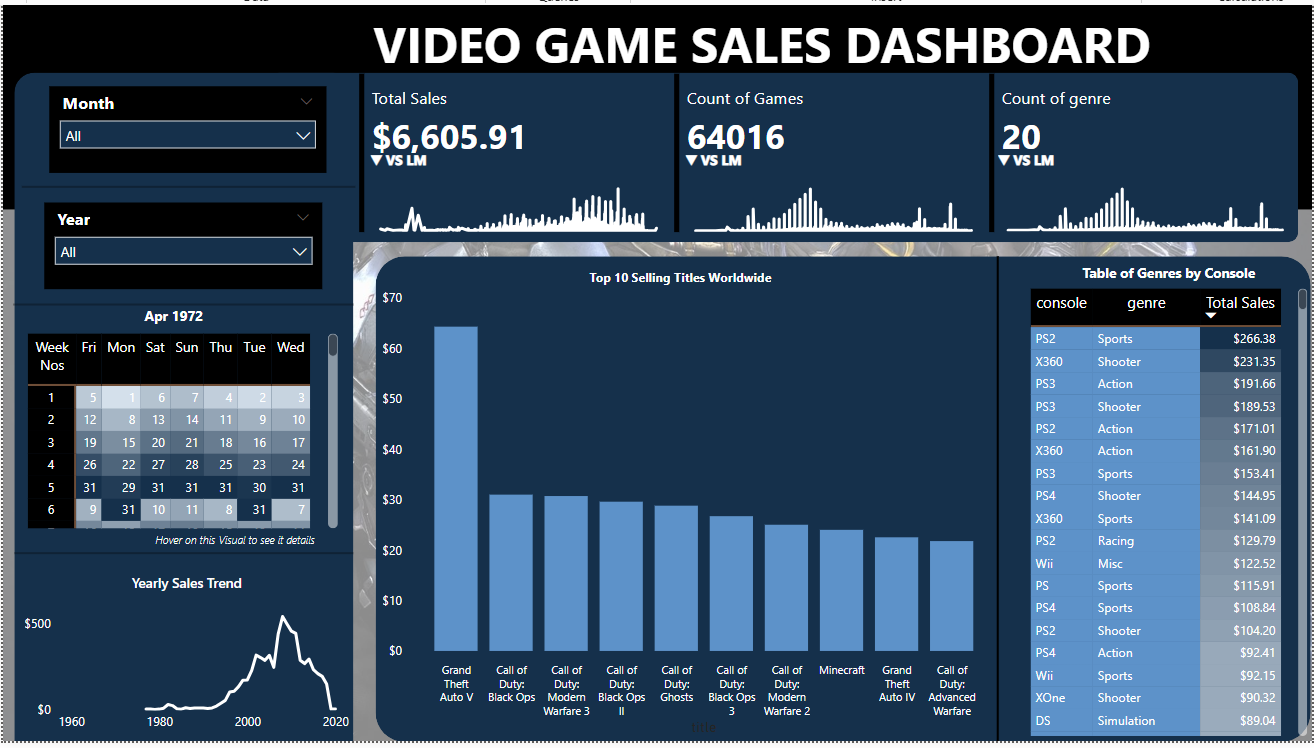

The dashboard page shown, as its layout file describes it:
{"tool":"powerbi","page":{"name":"Dashboard ","canvas":[1280,720],"ordinal":2},"visuals":[{"type":"shape","box":[364.9,245.6,914.8,475.2],"z":0},{"type":"shape","box":[0,0,1400,200],"z":1000},{"type":"shape","box":[261,66.1,1006.8,166.1],"z":2000},{"type":"shape","box":[11.5,66.4,331.8,715.6],"z":3000},{"type":"textbox","box":[354.9,0,789.2,82.2],"z":4000},{"type":"cardVisual","fields":{"Data":["MEASURE.Total Sales"]},"box":[344.1,62.7,299.8,165.7],"z":4000,"group":"g1"},{"type":"cardVisual","fields":{"Data":["MEASURE.Count of Games"]},"box":[651.7,62.7,299.8,165.7],"z":4000,"group":"g2"},{"type":"cardVisual","fields":{"Data":["Count(vgchartz-2024.genre)"]},"box":[959.3,62.7,299.8,165.7],"z":4000,"group":"g3"},{"type":"shape","box":[18.1,158.3,326.4,40.3],"z":5000},{"type":"group","id":"g1","title":"Group 1","box":[344.1,62.7,310.2,166.1],"z":6000},{"type":"lineChart","fields":{"Y":["MEASURE.Total Sales"],"Category":["DATE_TABLE.Date Hierarchy.Date"]},"box":[355.1,141.6,299.8,85.2],"z":6000,"group":"g1"},{"type":"lineChart","fields":{"Y":["MEASURE.Count of Games"],"Category":["DATE_TABLE.Date Hierarchy.Date"]},"box":[662.7,141.6,299.8,85.2],"z":6000,"group":"g2"},{"type":"lineChart","fields":{"Category":["DATE_TABLE.Date Hierarchy.Date"],"Y":["CountNonNull(vgchartz-2024.genre)"]},"box":[967.8,142.4,298.3,84.7],"z":6000,"group":"g3"},{"type":"group","id":"g2","title":"Group 1","box":[651.7,62.7,310.2,166.1],"z":7000},{"type":"group","id":"g3","title":"Group 1","box":[959.3,62.7,306.8,165.7],"z":8000},{"type":"clusteredColumnChart","fields":{"Category":["vgchartz-2024.title"],"Y":["MEASURE.Total Sales"]},"box":[365.3,272.2,611.1,447.2],"z":9000},{"type":"textbox","box":[509.7,251.4,305.6,33.3],"z":10000},{"type":"lineChart","title":"Yearly Sales Trend","fields":{"Y":["MEASURE.Total Sales"],"Category":["DATE_TABLE.Year"]},"box":[15.9,556.9,327.5,163],"z":11000},{"type":"shape","box":[9.7,276.4,333.3,33.3],"z":12000},{"type":"shape","box":[11.5,516.5,331.8,40.4],"z":13000},{"type":"pivotTable","fields":{"Columns":["DATE_TABLE.Day Of Week"],"Rows":["DATE_TABLE.Week Nos"],"Values":["Max(DATE_TABLE.Day Nos)"]},"box":[20,316.4,312.7,200],"z":14000},{"type":"slicer","fields":{"Values":["DATE_TABLE.Month"]},"box":[45.8,79.2,270.8,84.7],"z":15000},{"type":"slicer","fields":{"Values":["DATE_TABLE.Year"]},"box":[40.3,193.1,272.2,84.7],"z":16000},{"type":"tableEx","fields":{"Values":["vgchartz-2024.console","vgchartz-2024.genre","MEASURE.Total Sales"]},"box":[998.6,272.2,281.9,447.2],"z":17000},{"type":"textbox","box":[1006.9,248.6,268.1,33.3],"z":18000},{"type":"card","fields":{"Values":["Min(DATE_TABLE.Month Year)"]},"box":[98.6,290.3,136.1,33.3],"z":19000},{"type":"card","fields":{"Values":["MEASURE.Foot Note"]},"box":[127.3,510.9,200,25.5],"z":20000},{"type":"shape","box":[943.6,245.5,58.2,474.5],"z":21000}]}

Visuals, with their boxes in screenshot pixels (x1, y1, x2, y2), scaled from the page's 1280x720 canvas onto the 1314x748 screenshot:
shape: {"x1": 375, "y1": 255, "x2": 1313, "y2": 747}
shape: {"x1": 0, "y1": 0, "x2": 1313, "y2": 208}
shape: {"x1": 268, "y1": 69, "x2": 1301, "y2": 241}
shape: {"x1": 12, "y1": 69, "x2": 352, "y2": 747}
textbox: {"x1": 364, "y1": 0, "x2": 1174, "y2": 85}
cardVisual - MEASURE.Total Sales: {"x1": 353, "y1": 65, "x2": 661, "y2": 237}
cardVisual - MEASURE.Count of Games: {"x1": 669, "y1": 65, "x2": 977, "y2": 237}
cardVisual - Count(vgchartz-2024.genre): {"x1": 985, "y1": 65, "x2": 1293, "y2": 237}
shape: {"x1": 19, "y1": 164, "x2": 354, "y2": 206}
"Group 1" group: {"x1": 353, "y1": 65, "x2": 672, "y2": 238}
lineChart - MEASURE.Total Sales x DATE_TABLE.Date Hierarchy.Date: {"x1": 365, "y1": 147, "x2": 672, "y2": 236}
lineChart - MEASURE.Count of Games x DATE_TABLE.Date Hierarchy.Date: {"x1": 680, "y1": 147, "x2": 988, "y2": 236}
lineChart - DATE_TABLE.Date Hierarchy.Date x CountNonNull(vgchartz-2024.genre): {"x1": 994, "y1": 148, "x2": 1300, "y2": 236}
"Group 1" group: {"x1": 669, "y1": 65, "x2": 987, "y2": 238}
"Group 1" group: {"x1": 985, "y1": 65, "x2": 1300, "y2": 237}
clusteredColumnChart - vgchartz-2024.title x MEASURE.Total Sales: {"x1": 375, "y1": 283, "x2": 1002, "y2": 747}
textbox: {"x1": 523, "y1": 261, "x2": 837, "y2": 296}
"Yearly Sales Trend" lineChart: {"x1": 16, "y1": 579, "x2": 353, "y2": 747}
shape: {"x1": 10, "y1": 287, "x2": 352, "y2": 322}
shape: {"x1": 12, "y1": 537, "x2": 352, "y2": 579}
pivotTable - DATE_TABLE.Day Of Week x DATE_TABLE.Week Nos: {"x1": 21, "y1": 329, "x2": 342, "y2": 536}
slicer - DATE_TABLE.Month: {"x1": 47, "y1": 82, "x2": 325, "y2": 170}
slicer - DATE_TABLE.Year: {"x1": 41, "y1": 201, "x2": 321, "y2": 289}
tableEx - vgchartz-2024.console x vgchartz-2024.genre: {"x1": 1025, "y1": 283, "x2": 1313, "y2": 747}
textbox: {"x1": 1034, "y1": 258, "x2": 1309, "y2": 293}
card - Min(DATE_TABLE.Month Year): {"x1": 101, "y1": 302, "x2": 241, "y2": 336}
card - MEASURE.Foot Note: {"x1": 131, "y1": 531, "x2": 336, "y2": 557}
shape: {"x1": 969, "y1": 255, "x2": 1028, "y2": 747}
